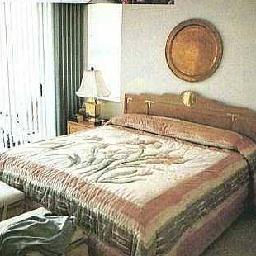Cama: (16, 123, 248, 219)
